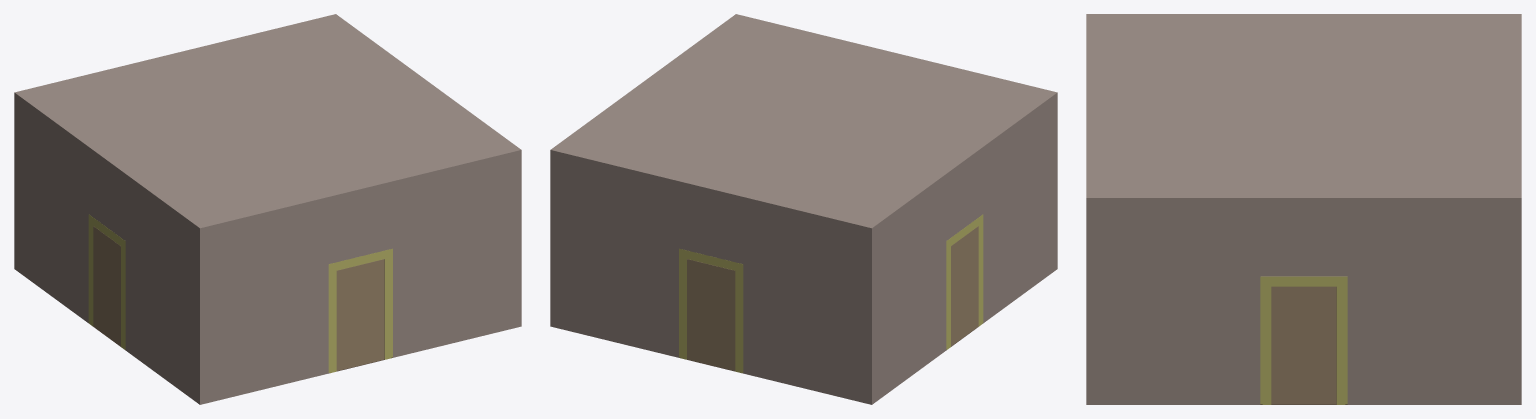
File: Room13_CollapsedRoom.fbx
3 renders of one model, left to right at view 1: azimuth 30°, elevation 25°; view 2: azimuth 150°, elevation 25°; view 3: azimuth 270°, elevation 25°, orthographic. The views are drawn at different scales.
Visible parts, largest first — view 1: Roof, WallSlicedPosZ, WallSlicedPosX, DoorPosZ, DoorPosX, DoorFramePosZ, DoorFramePosX, WallSlicedNegX, WallSlicedNegZ; view 2: Roof, WallSlicedNegZ, WallSlicedPosX, DoorNegZ, DoorPosX, DoorFrameNegZ, DoorFramePosX, WallSlicedPosZ, WallSlicedNegX; view 3: Roof, WallSlicedNegX, DoorNegX, DoorFrameNegX, WallSlicedNegZ, WallSlicedPosZ, WallSlicedPosX.
Boxes of the visible parts, x1,y1,x2,y2 form: Roof: [17, 15, 518, 227]; WallSlicedPosZ: [198, 149, 521, 404]; WallSlicedPosX: [14, 92, 201, 403]; DoorPosZ: [336, 259, 384, 370]; DoorPosX: [93, 226, 120, 346]; DoorFramePosZ: [328, 248, 392, 372]; DoorFramePosX: [88, 214, 125, 349]; WallSlicedNegX: [336, 14, 521, 326]; WallSlicedNegZ: [14, 14, 336, 269]; Roof: [553, 15, 1054, 227]; WallSlicedNegZ: [550, 149, 873, 404]; WallSlicedPosX: [869, 92, 1056, 404]; DoorNegZ: [687, 259, 735, 370]; DoorPosX: [951, 226, 978, 346]; DoorFrameNegZ: [679, 248, 743, 372]; DoorFramePosX: [946, 214, 983, 349]; WallSlicedPosZ: [735, 14, 1057, 269]; WallSlicedNegX: [550, 14, 735, 326]; Roof: [1088, 14, 1519, 197]; WallSlicedNegX: [1086, 197, 1521, 404]; DoorNegX: [1271, 286, 1336, 404]; DoorFrameNegX: [1260, 276, 1347, 404]; WallSlicedNegZ: [1518, 14, 1521, 404]; WallSlicedPosZ: [1086, 14, 1089, 404]; WallSlicedPosX: [1088, 14, 1521, 14].
Bounding box in the file's own units: 100 × 52.5 × 100.
